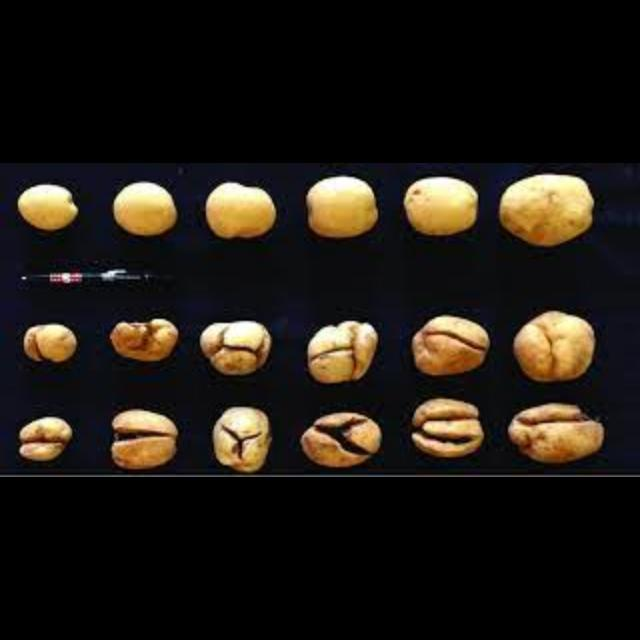Damaged potato: (512, 309, 598, 383), (508, 401, 606, 462), (300, 411, 386, 467), (411, 398, 487, 458), (412, 316, 486, 376), (197, 318, 279, 372), (208, 404, 272, 472), (306, 322, 378, 381), (104, 409, 178, 466), (8, 408, 76, 468), (105, 316, 177, 366), (18, 323, 76, 362)
Potato: (498, 169, 592, 243), (302, 174, 378, 238), (402, 176, 476, 238), (204, 184, 278, 242), (110, 180, 178, 238), (19, 182, 72, 230)
